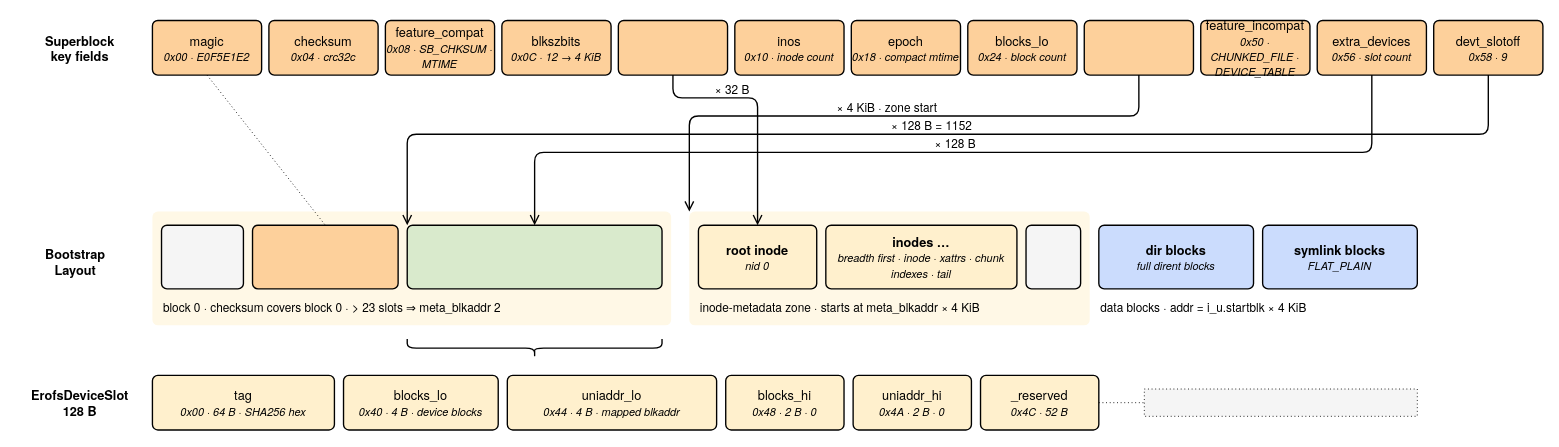
Image size: 1559x447. Some labels were removed from this diagram. Here are the shapes that lost their labels. From the top down, the centre of each, then its label:
At point 672,47: "root_nid 0x0E · 0".
At point 1138,47: "meta_blkaddr 0x28 · zone start · 1".
At point 202,256: "unused 1 KiB".
At point 324,256: "Superblock @1024 · 128 B".
At point 534,256: "Device Table @1152 · 128 B slots".
At point 1053,256: "pad to 4 KiB".
At point 1280,402: "nydus check --bootstrap <bootstrap>".
